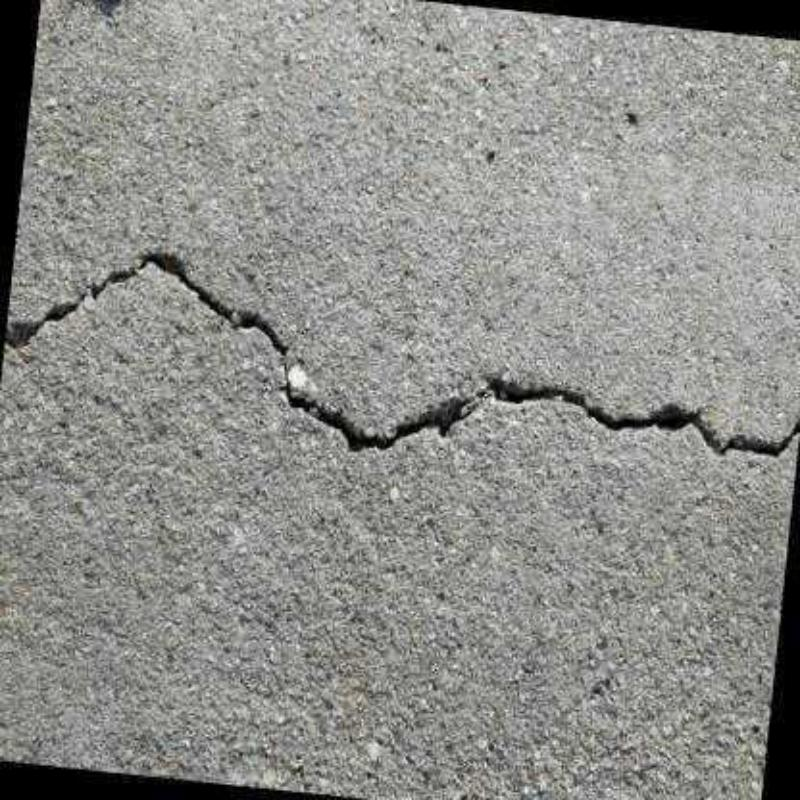pothole: (3, 247, 800, 461)
